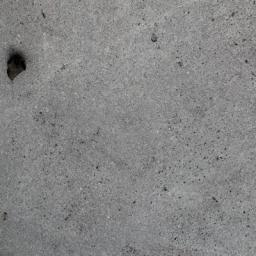FOD: (2, 52, 32, 87)
